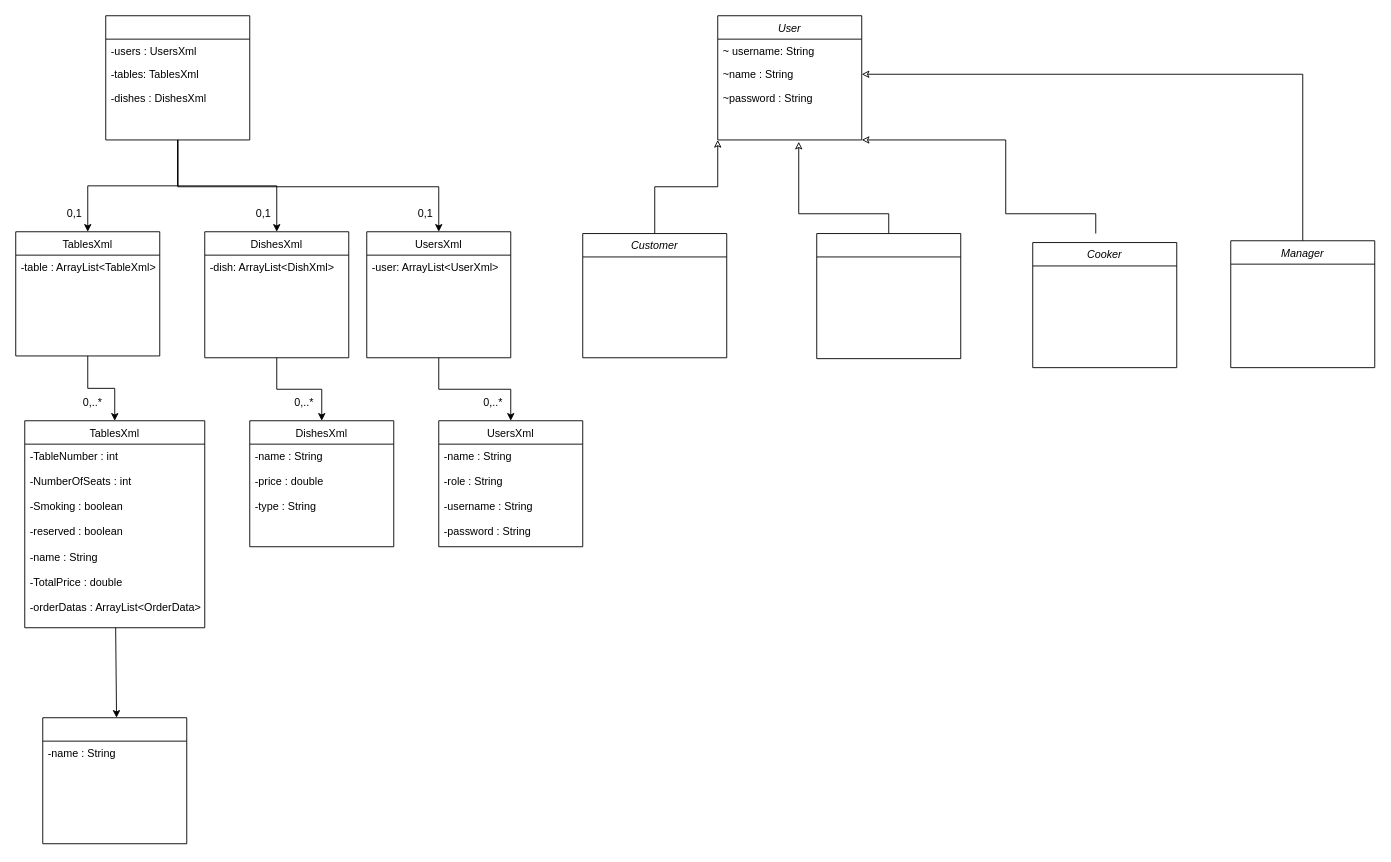
Image size: 1391x862. Some labels were removed from this diagram. Here are the shapes that lost their labels. From the top down, the box of each, then its label:
(105, 15, 250, 140): RestaurantXml
(816, 233, 961, 359): Waiter
(42, 717, 187, 844): OrderData
